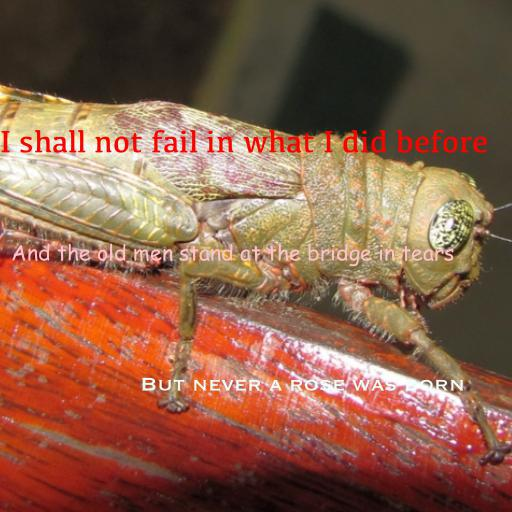Comic Sans MS: (10, 243, 454, 267)
Copperplate: (139, 377, 465, 391)
Kefa: (0, 130, 488, 153)
